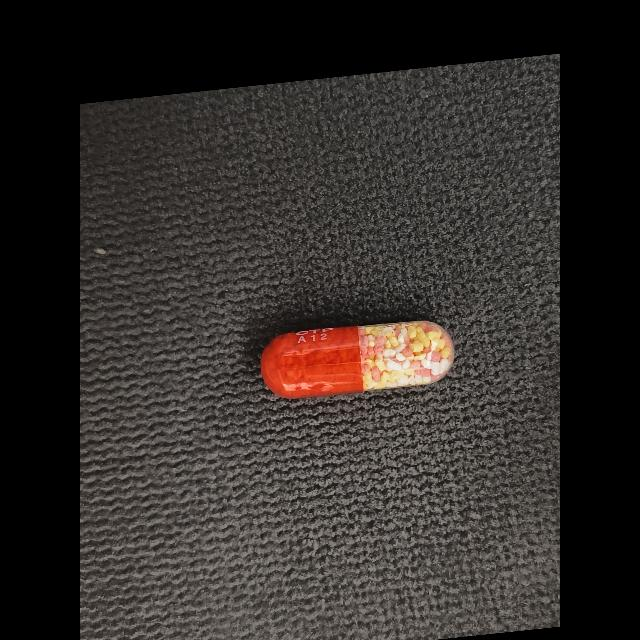Intact Capsule: (260, 321, 454, 398)
